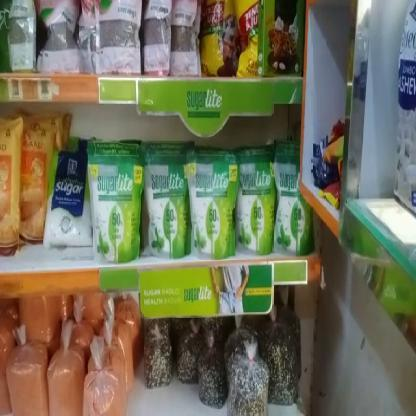SUGARLITE POUCH 500G: (90, 158, 140, 263), (140, 160, 186, 263), (187, 163, 235, 255), (234, 158, 276, 260), (276, 160, 304, 254)
